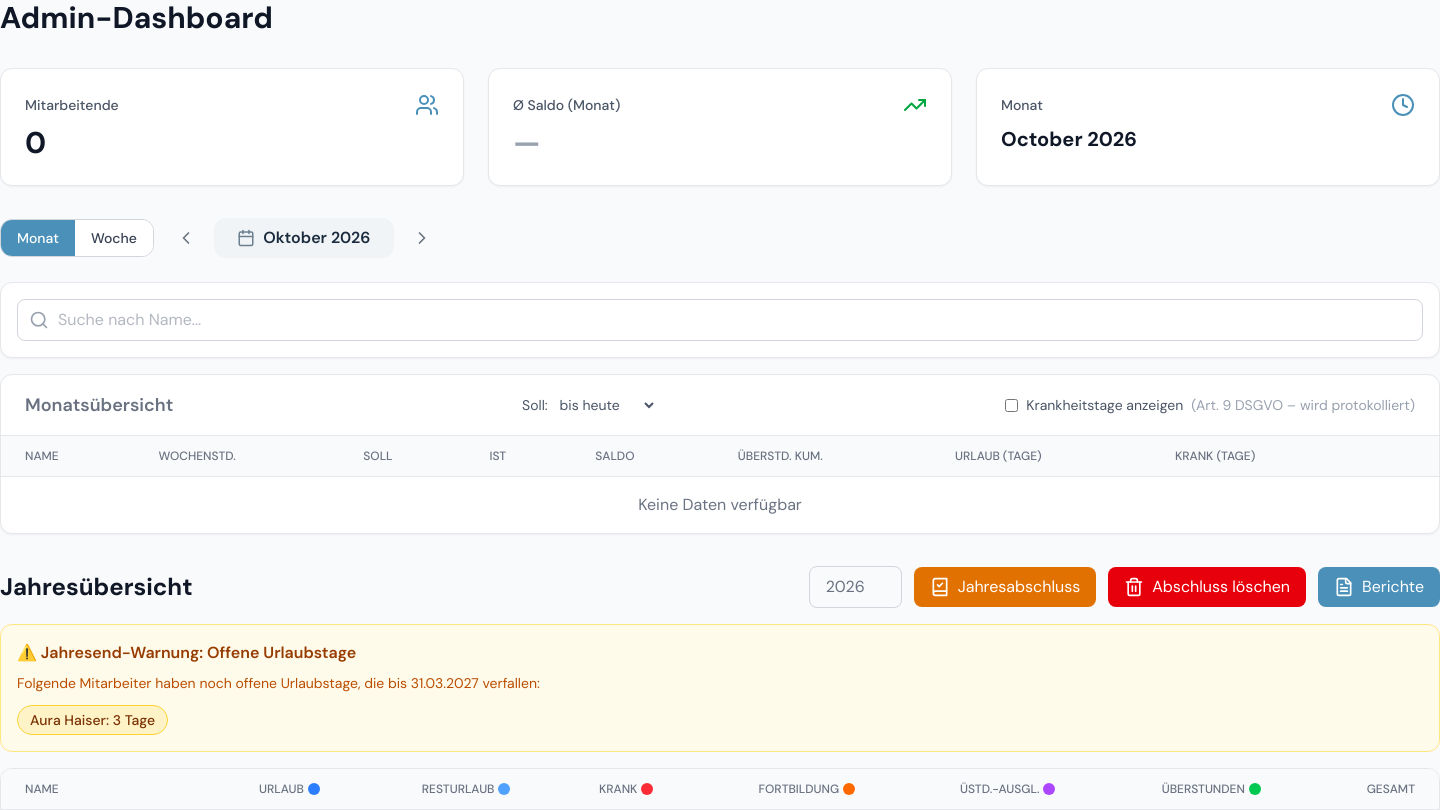
AdminDashboard Jahresend-Warnung beim Jahreswechsel (#501, Review F3) › blendet den Banner aus, solange die Anfrage für das neue Jahr läuft
The width and height of the screenshot is (1440, 810).
Check: the text "⚠️ Jahresend-Warnung: Offene Urlaubstage" is shown, box [17,642,356,663]
Replace the text in the number field named "Jahr" with "2025": point(855, 587) [809,566,902,608]
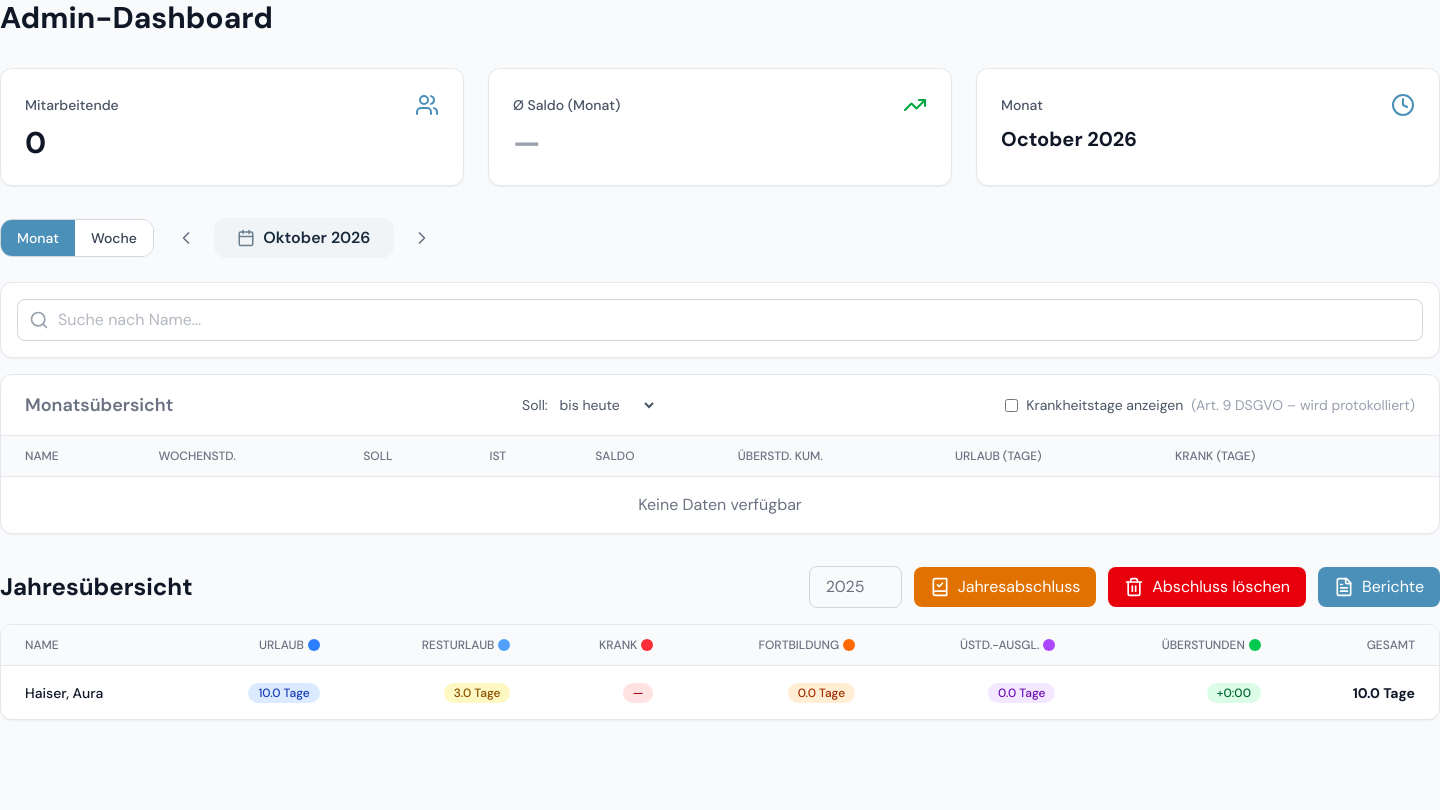
Check: the text "Jahresend-Warnung" is gone
